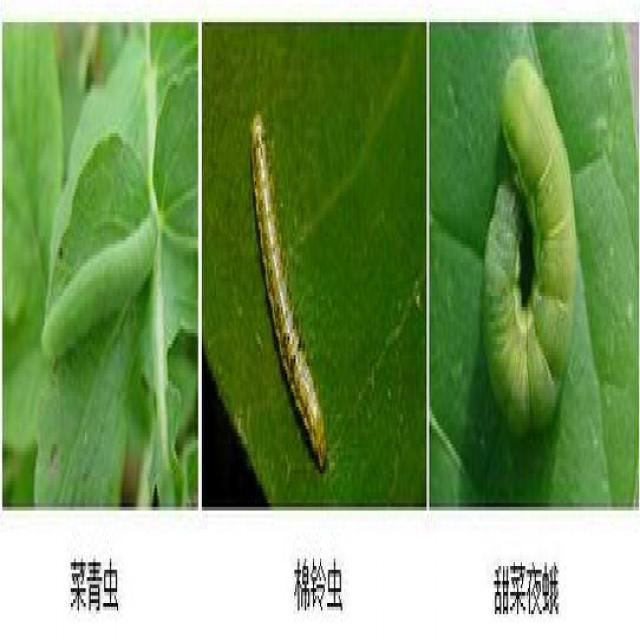BeetArmyWorm-Larva-: (483, 49, 585, 445)
